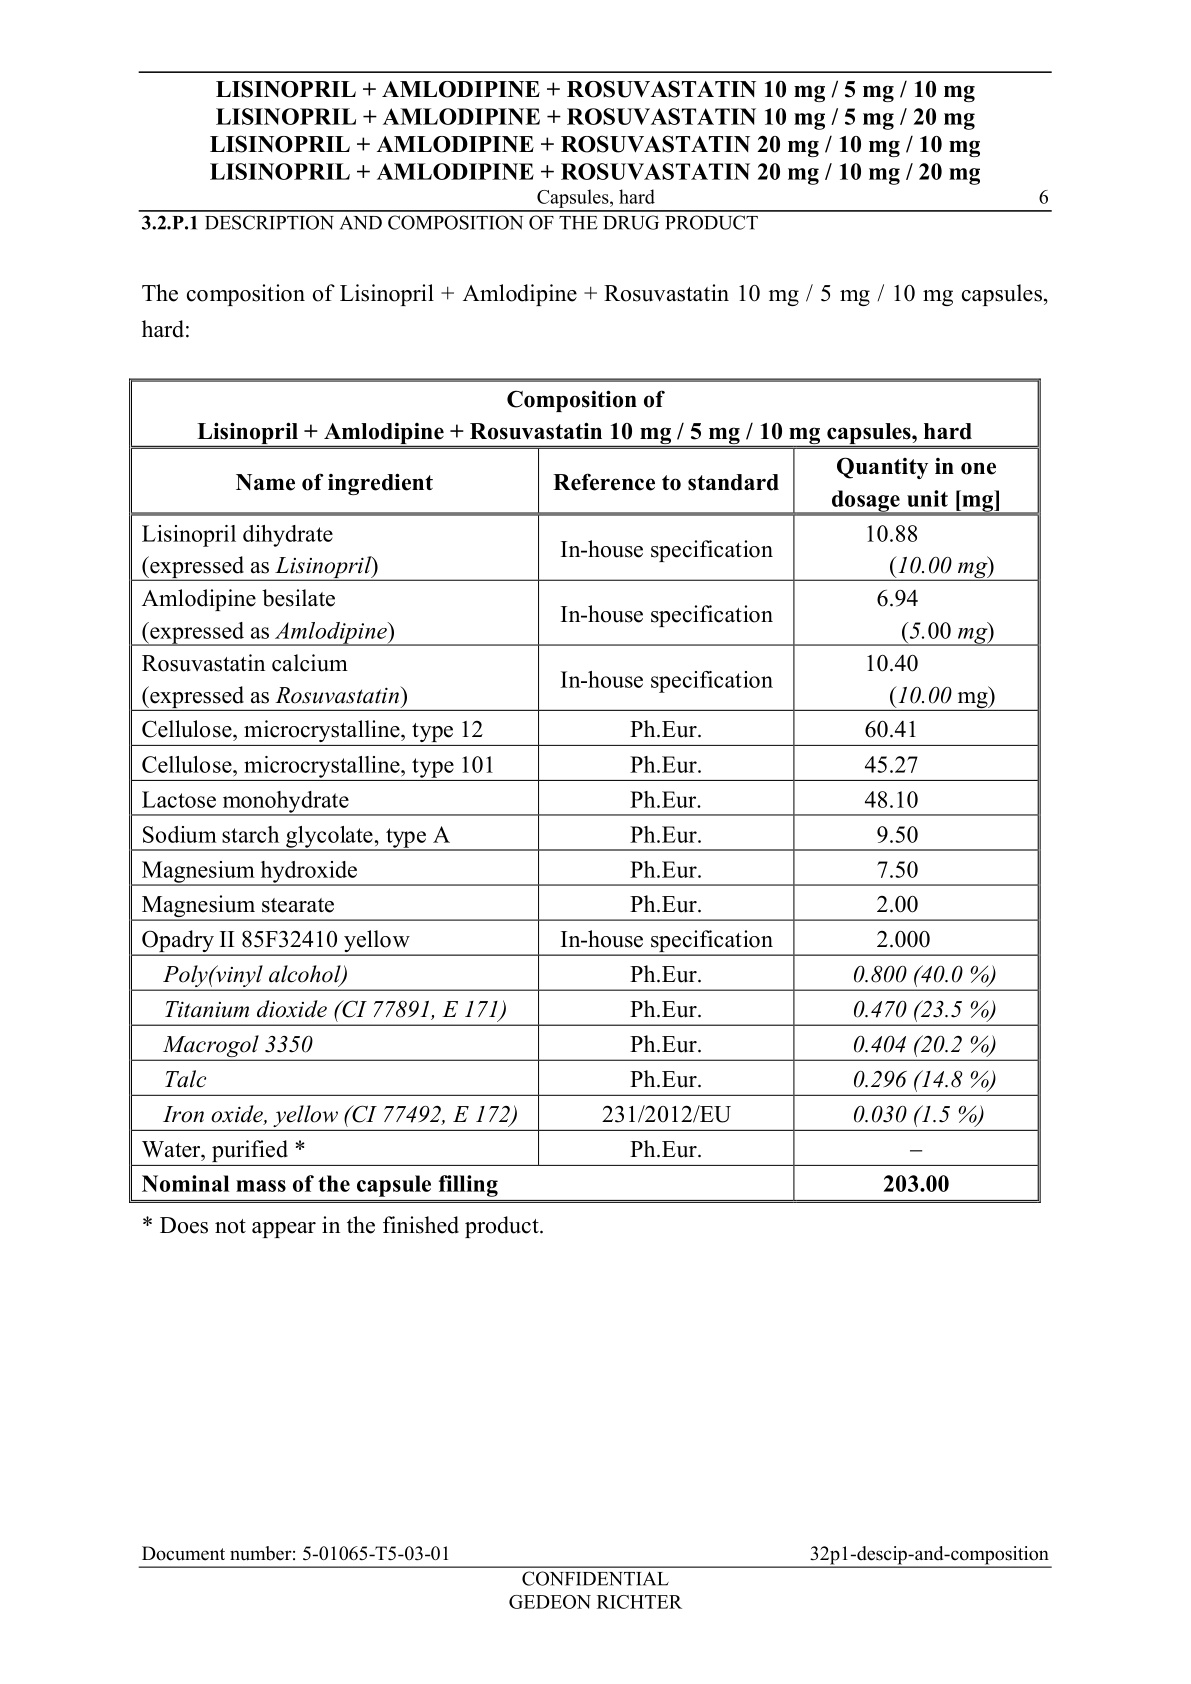merged_cells: (128, 378, 1041, 1203)
